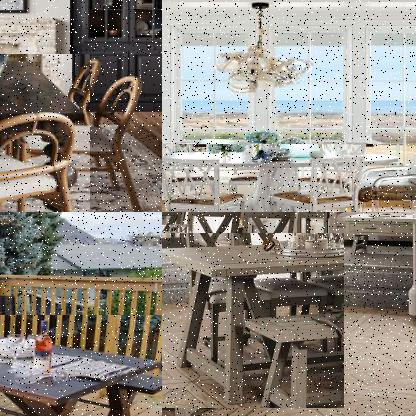table: (162, 233, 344, 409), (162, 144, 404, 211), (0, 315, 161, 415), (0, 54, 90, 211)
